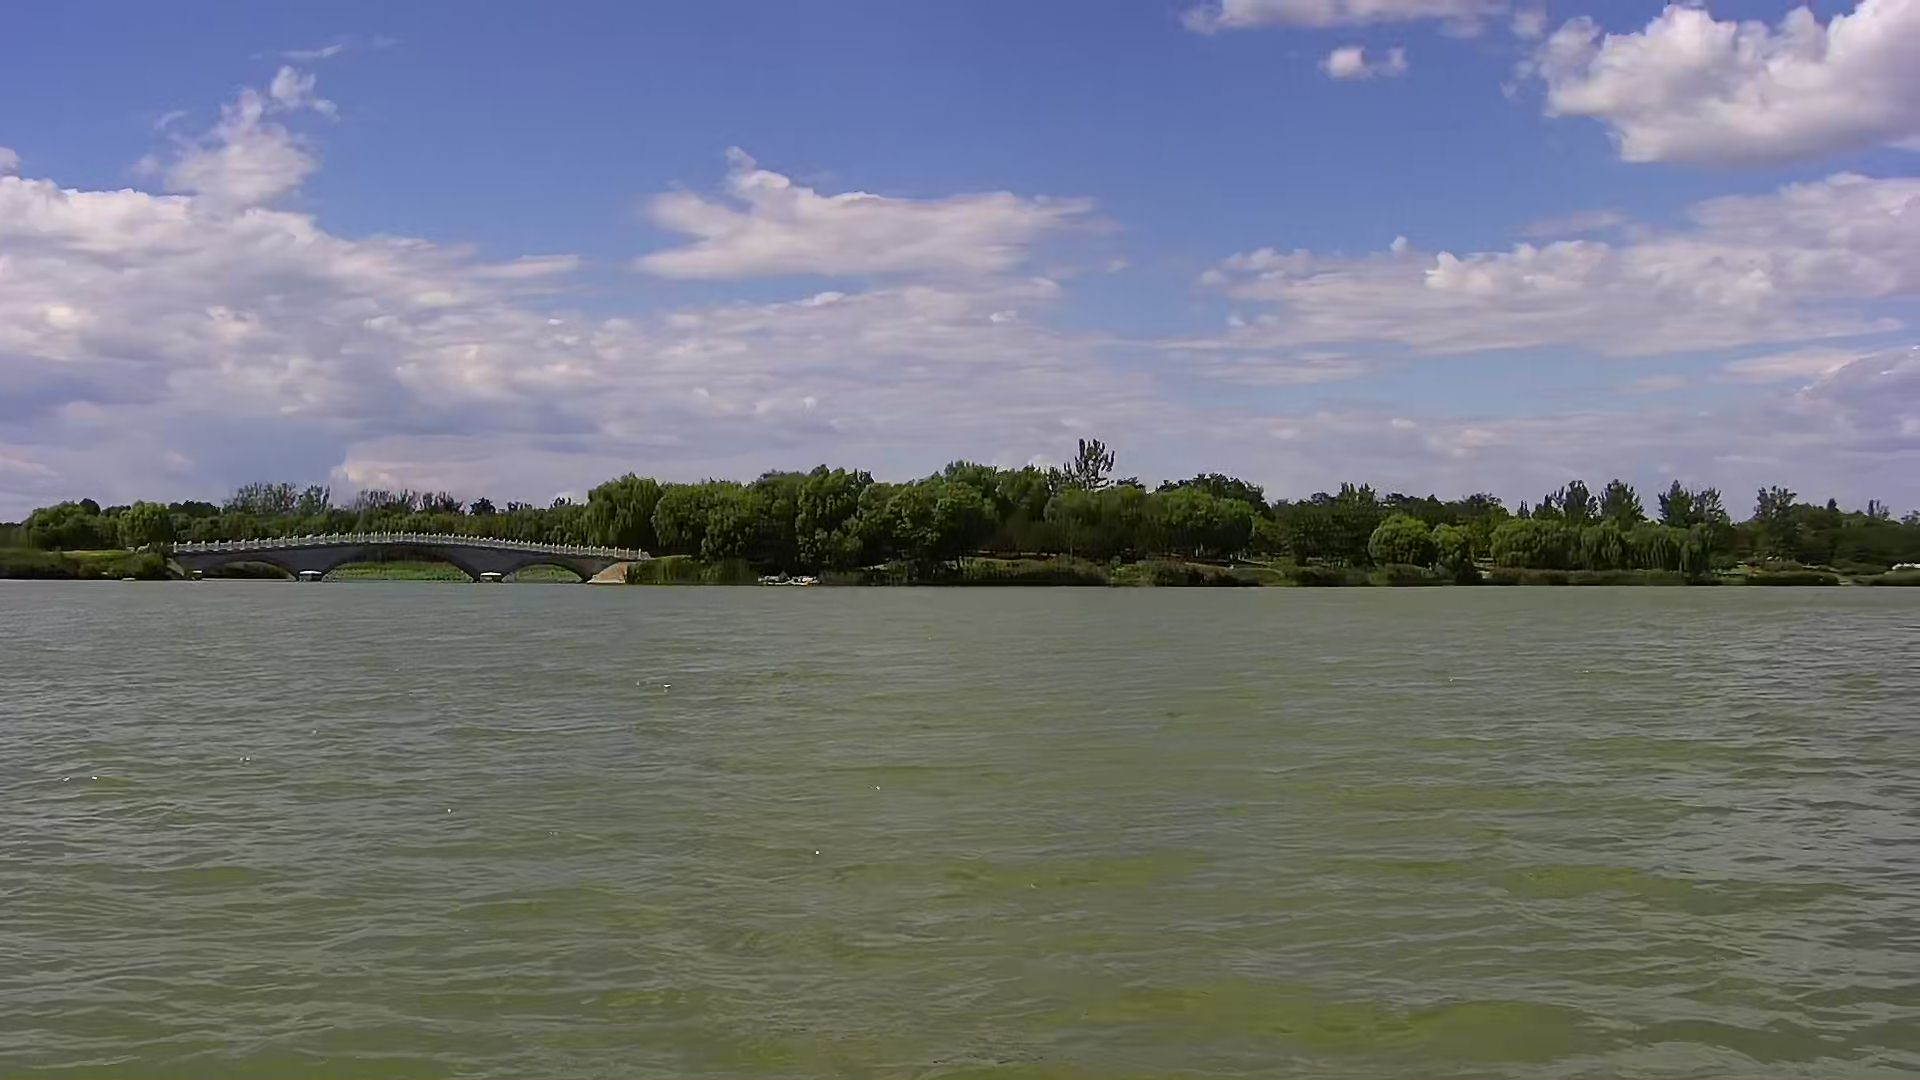bridge: (164, 527, 647, 587)
